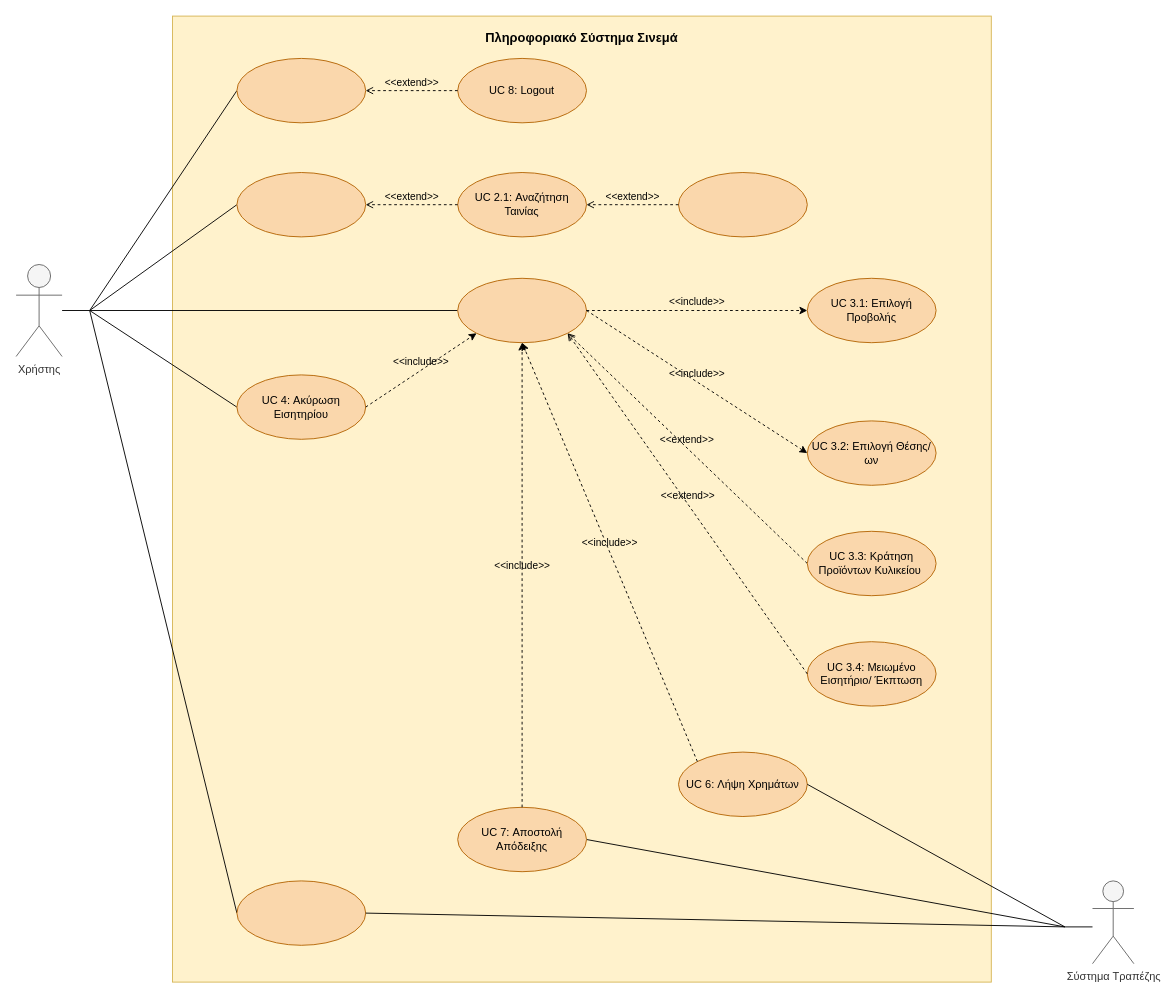
The diagram is 1176 pixels wide and 999 high, and some of its shapes have lost their labels. Each missing label, with the centre of its shape:
"UC 1: Login" belongs at (x=301, y=90).
"UC 2.1.1: Προβολή Στοιχείων Ταινίας" belongs at (x=742, y=204).
"UC 2: Περιήγηση" belongs at (x=301, y=204).
"UC 3: Αγορά Εισητηρίου" belongs at (x=521, y=310).
"UC 5: Σελίδα Επικοινωνίας" belongs at (x=301, y=912).
